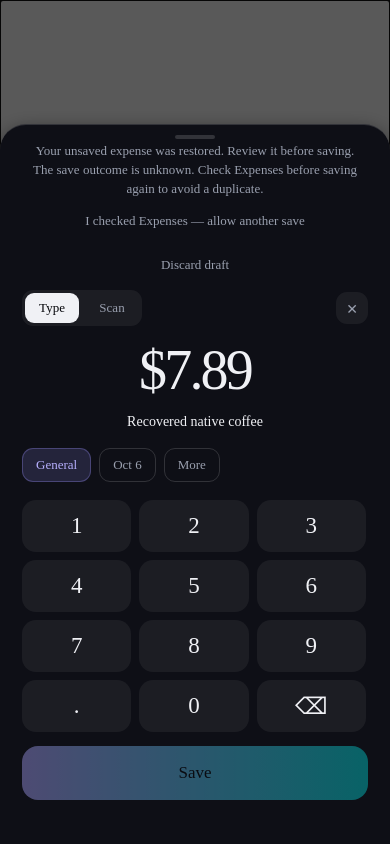
an interrupted native save requires checking records before another submission
Expected: the text "The save outcome is unknown" is shown, [33,162,360,196]
Expected: the button "Save" is disabled, [22,732,368,800]
Click the button "I checked Expenses — allow another save". click: (195, 220)
box: [22,198,368,242]
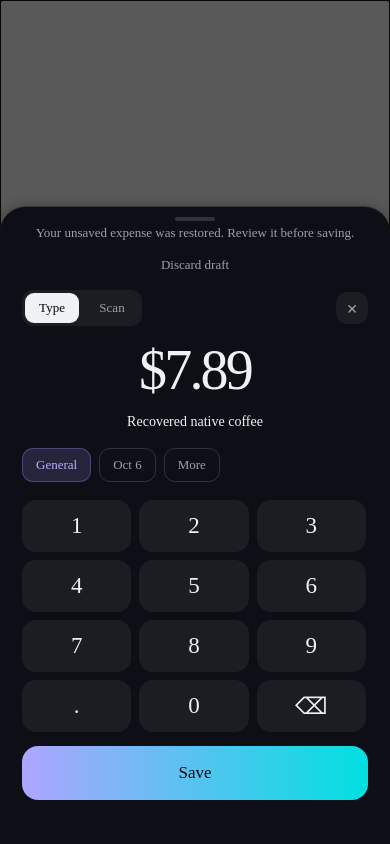
Expected: the text "The save outcome is unknown" is gone
